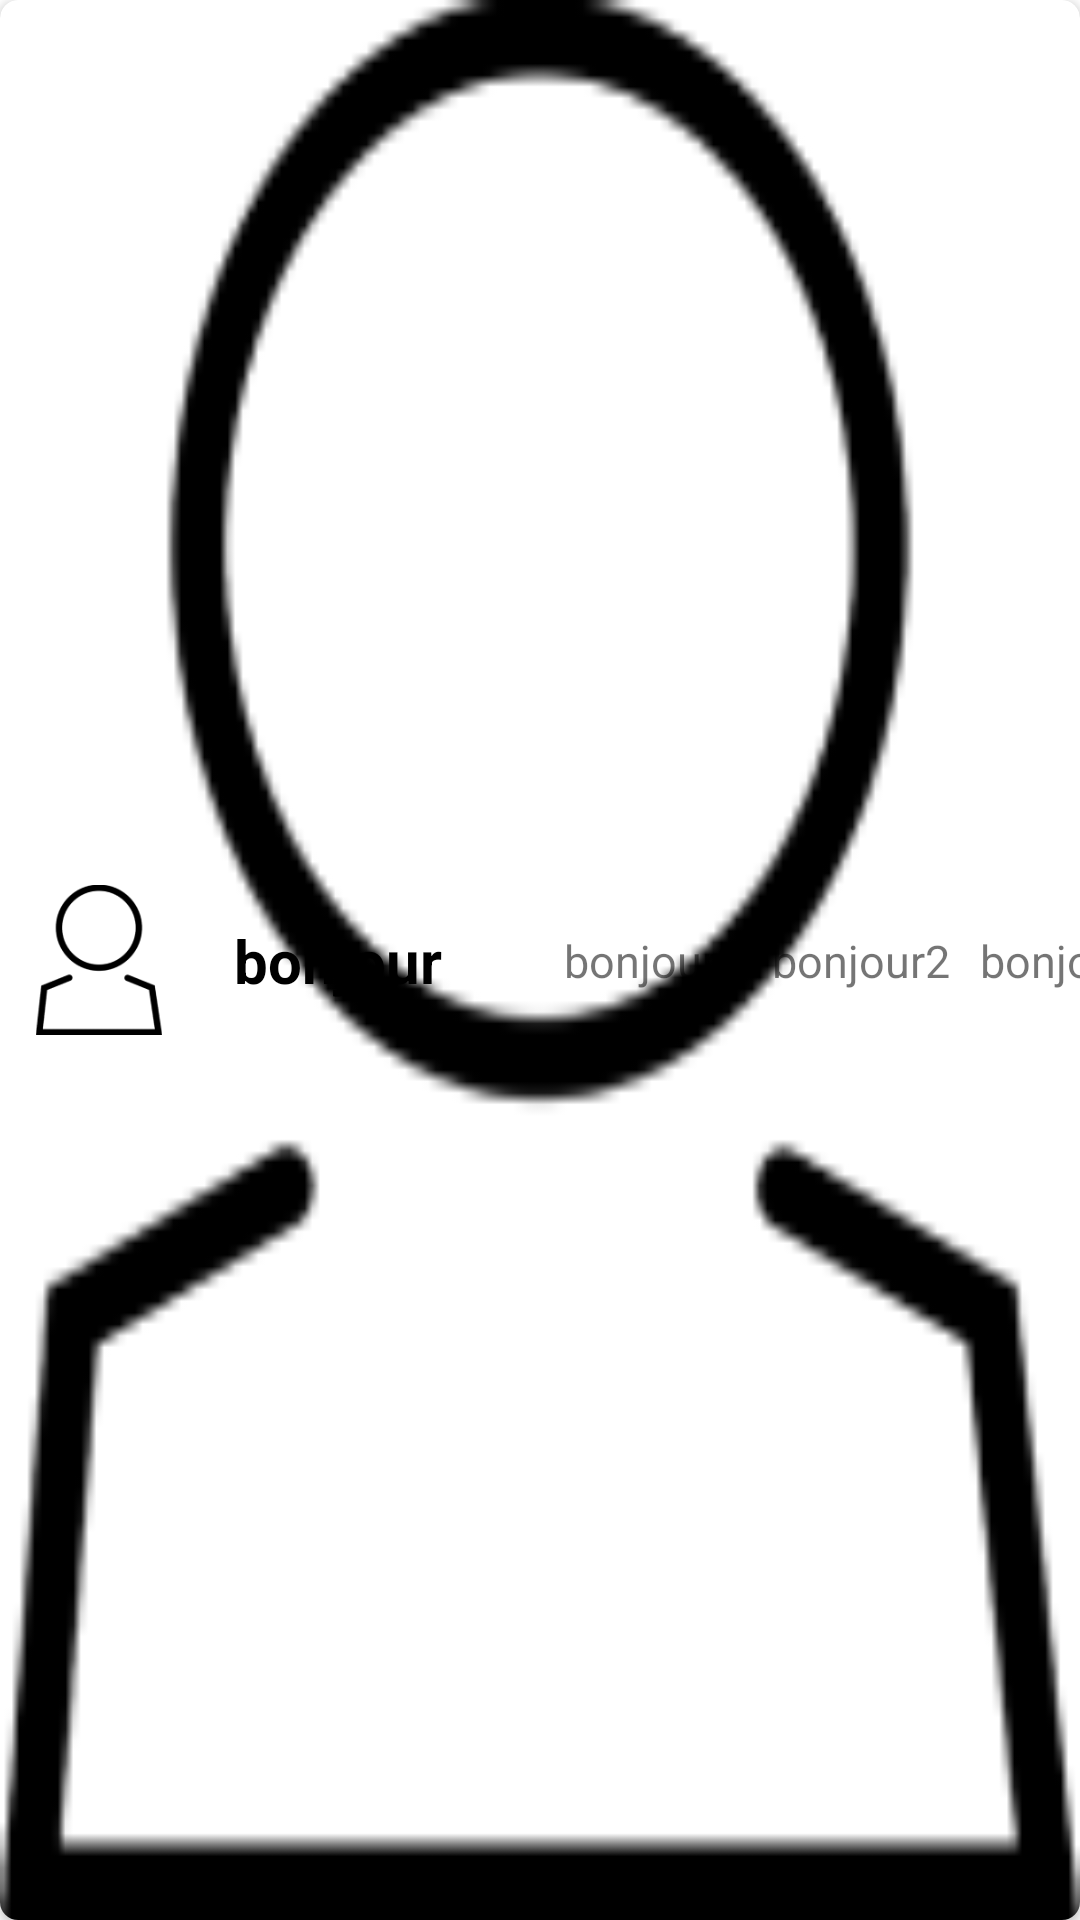

Icon bounding boxes for this 1080w x 1920h phone screenshot, format (x1, y1, x2, y2):
user profil: (36, 885, 162, 1035)
